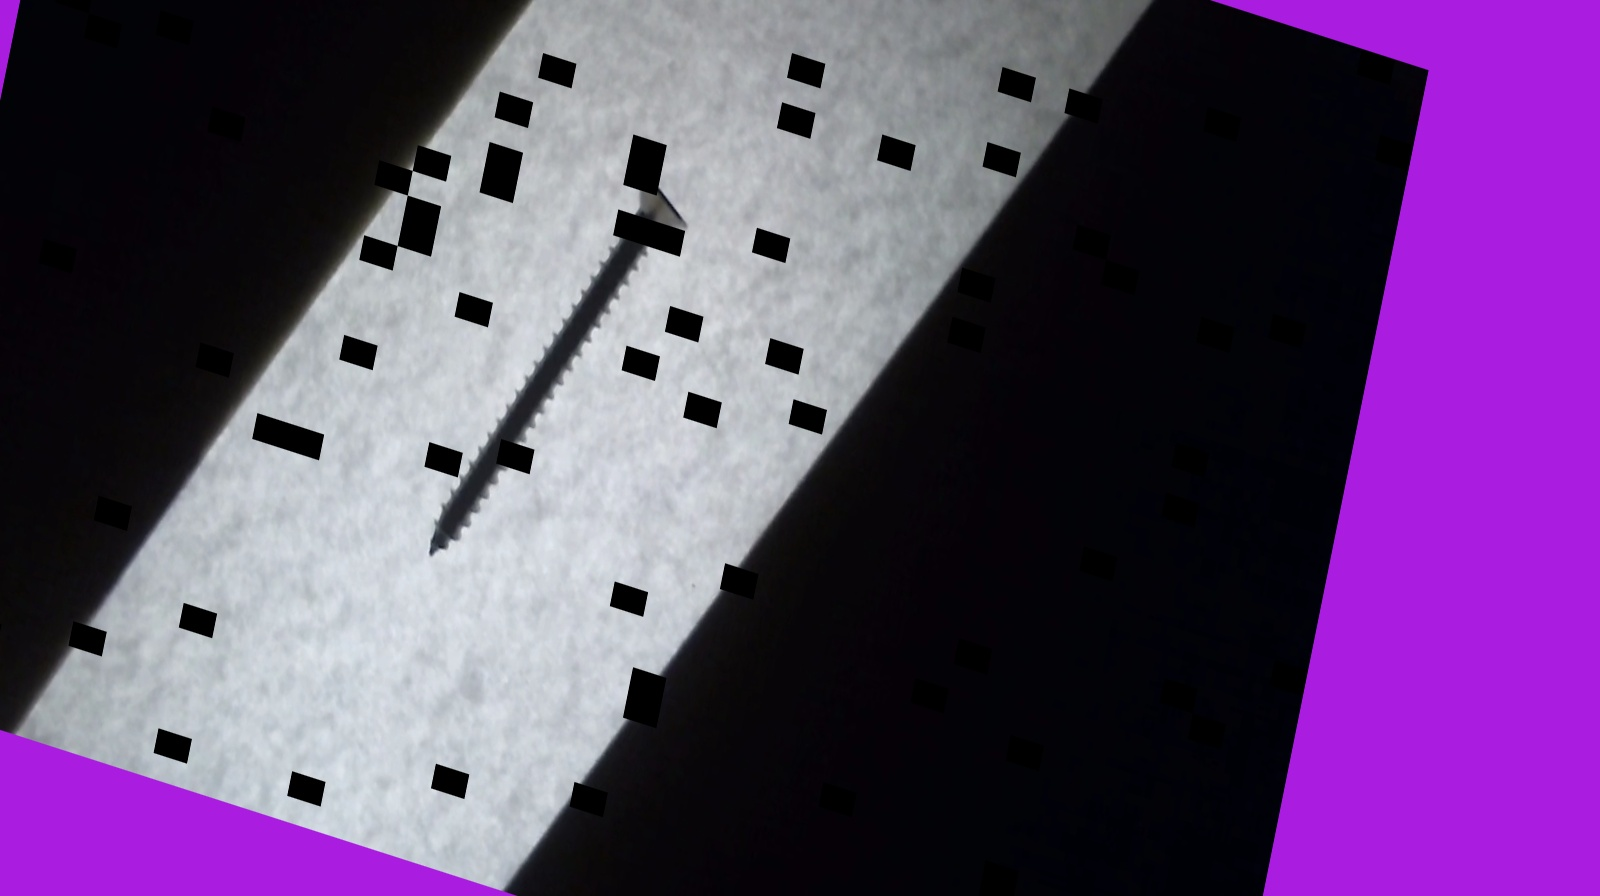S002: (410, 119, 703, 631)
